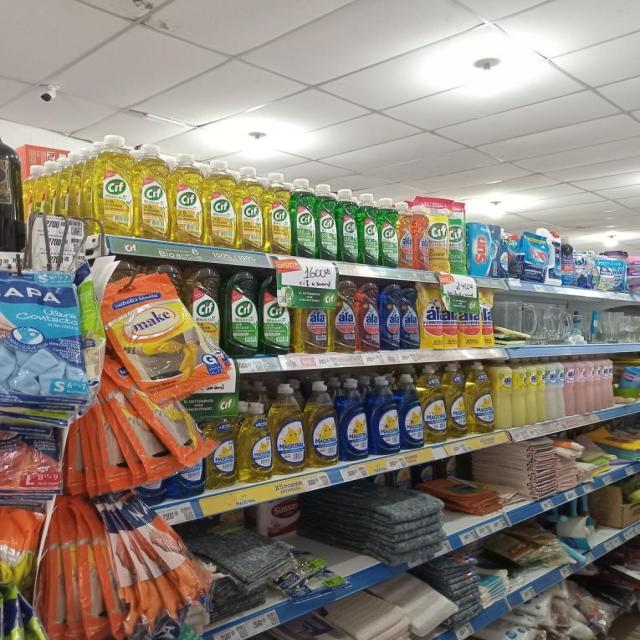ala_conc_amarillo: (296, 292, 329, 354), (330, 279, 356, 353), (398, 200, 413, 269)
ala_conc_azul: (380, 284, 400, 350), (400, 284, 419, 350)
ala_conc_rojo: (357, 280, 379, 352), (413, 199, 429, 270)
ala_crem_amarillo: (494, 358, 512, 429), (513, 358, 525, 428), (525, 358, 537, 427), (538, 358, 546, 423)
ala_crem_blanco: (547, 357, 557, 421), (558, 357, 565, 419)
ala_crem_rosado: (600, 357, 613, 409), (576, 356, 586, 415), (586, 356, 596, 413), (566, 356, 575, 416)
ala_sachet_amarillo: (420, 285, 442, 349), (459, 288, 481, 348), (442, 286, 458, 349), (481, 289, 494, 347)
cif_conc_bot_amarilla: (93, 135, 133, 236), (135, 143, 169, 240), (204, 159, 237, 248), (171, 153, 203, 244), (191, 265, 221, 352), (236, 166, 264, 252), (264, 172, 290, 255)
cif_conc_botella_verde: (224, 270, 258, 356), (259, 271, 292, 355), (291, 177, 316, 258), (316, 183, 337, 260), (338, 188, 358, 263), (359, 193, 378, 265), (379, 197, 397, 267)
cif_conc_sachet_amarillo: (422, 196, 450, 273)
cif_conc_sachet_verde: (450, 202, 469, 274)
magistral_con_amarillo: (273, 382, 305, 474), (306, 380, 338, 468), (239, 401, 271, 482), (207, 416, 237, 488), (467, 360, 493, 434), (422, 364, 446, 444), (446, 362, 466, 439)
magistral_con_azul: (339, 377, 368, 461), (369, 375, 399, 455), (400, 373, 422, 450)
